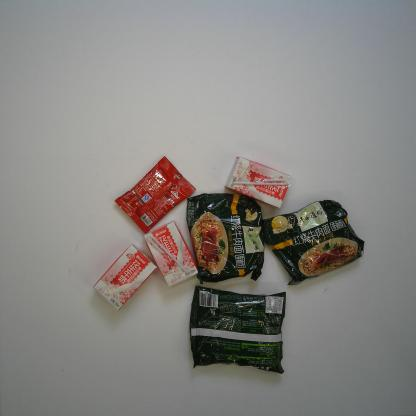Instant Drink: (113, 156, 197, 234)
Instant Noodles: (262, 199, 366, 286), (189, 285, 287, 375), (186, 192, 266, 285)
Milk: (92, 244, 158, 312), (143, 219, 199, 288), (224, 156, 292, 209)
